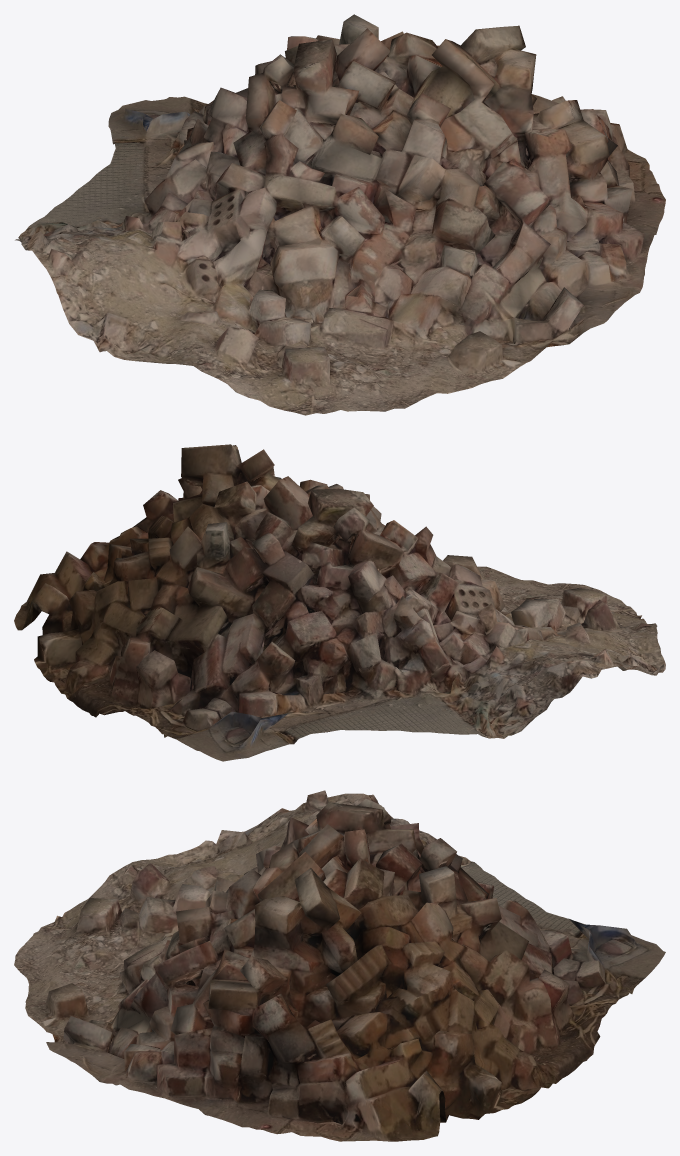
Rendered from vault_brickfall.glb.
3 views of the same model, one above another, from view 1: azimuth 30°, elevation 25°; view 2: azimuth 150°, elevation 25°; view 3: azimuth 270°, elevation 25° (orthographic). The views are drawn at different scales.
Visible parts, largest first — view 1: vault_brickfall; view 2: vault_brickfall; view 3: vault_brickfall.
Part boxes in pixels (<box>): vault_brickfall: <box>15,14,665,415</box>; vault_brickfall: <box>14,444,665,761</box>; vault_brickfall: <box>14,790,665,1141</box>.
Bounding box in the file's own units: 2.45 × 0.8273 × 2.3.
Materials: 1 (1 with a texture image).
